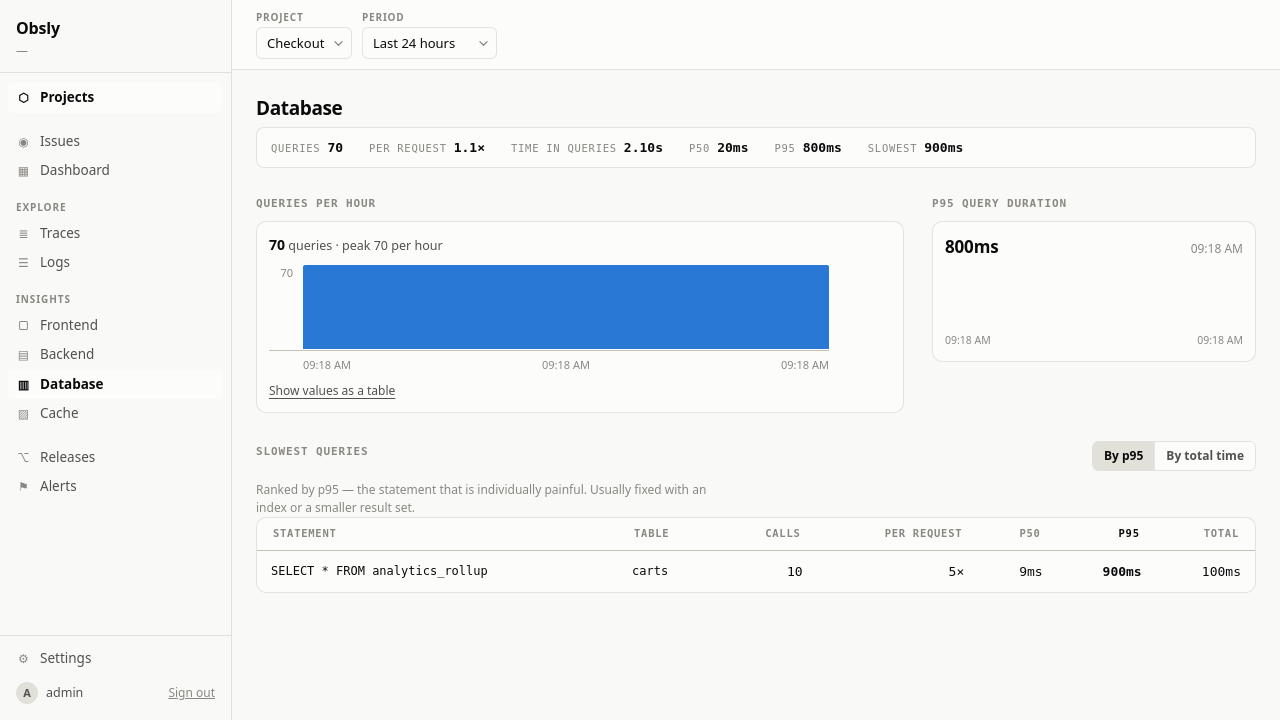
Insights layers › the Database page ranks by p95 and by total time separately
Expected: the link "SELECT * FROM analytics_rollup" is shown, [271,564,488,578]
What coordinates should you click on to do the following:
click the button "By total time"
I would click on:
 (1205, 456)
Its box is [1154,442,1255,470].
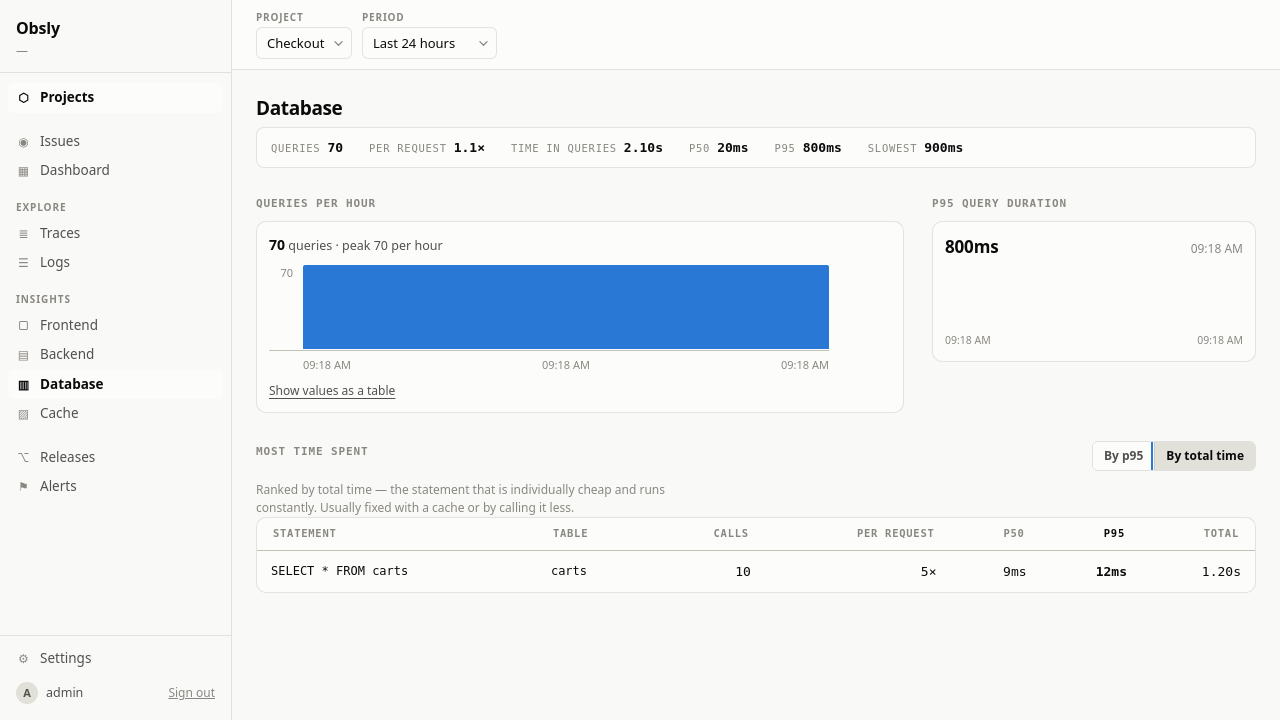
Expected: the link "SELECT * FROM carts" is shown, [271,564,408,578]
